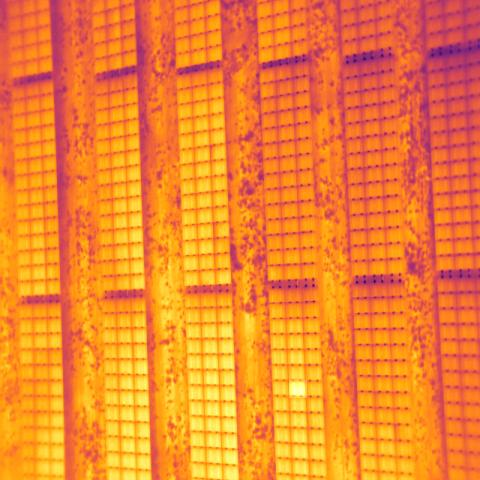fault: (289, 380, 307, 398)
